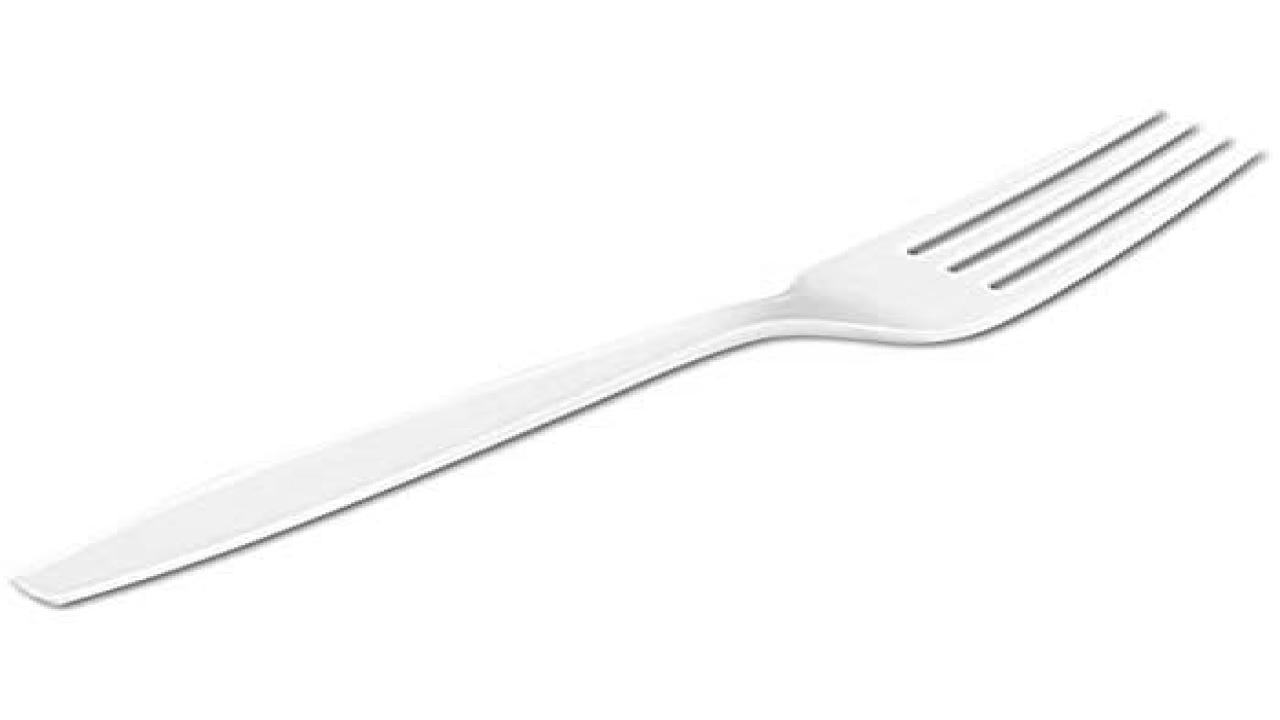fork: (8, 107, 1266, 609)
